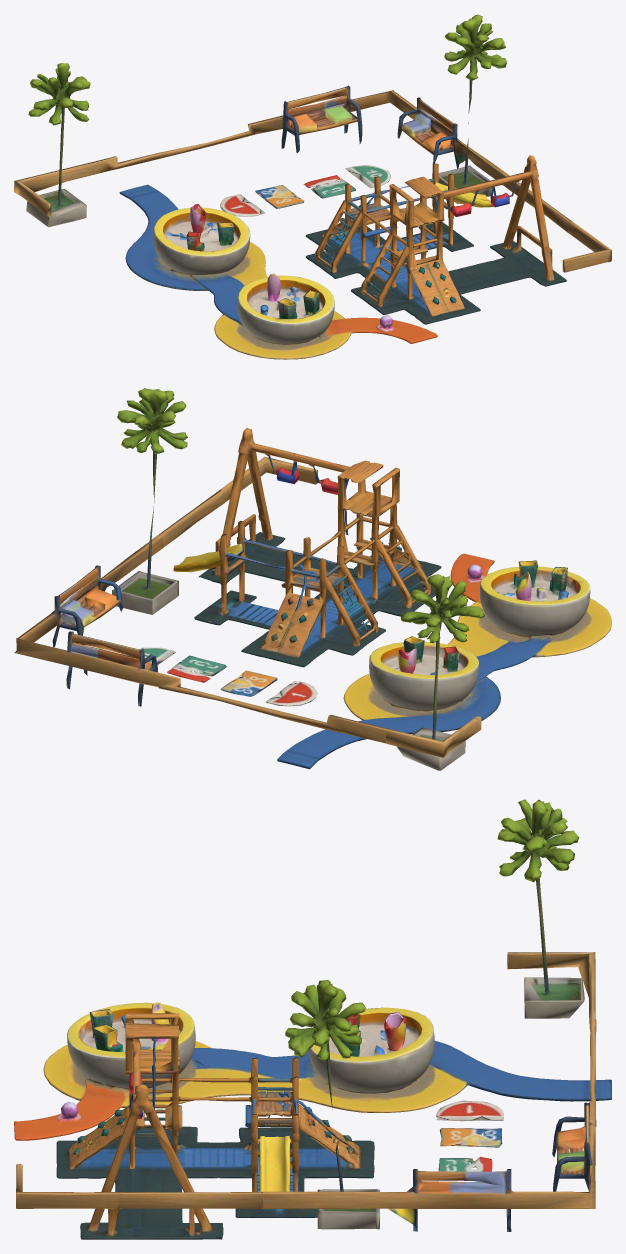
File: scene_playground.glb
3 renders of one model, top to bottom at view 1: azimuth 30°, elevation 25°; view 2: azimuth 150°, elevation 25°; view 3: azimuth 270°, elevation 25°, orthographic. The views are drawn at different scales.
Visible parts, largest first — view 1: tripo_node_0203b197-cd9d-4ef6-82e8-2cd33d41fda9; view 2: tripo_node_0203b197-cd9d-4ef6-82e8-2cd33d41fda9; view 3: tripo_node_0203b197-cd9d-4ef6-82e8-2cd33d41fda9.
Boxes of the visible parts, x1,y1,x2,y2 form: tripo_node_0203b197-cd9d-4ef6-82e8-2cd33d41fda9: [14, 14, 611, 359]; tripo_node_0203b197-cd9d-4ef6-82e8-2cd33d41fda9: [14, 388, 611, 770]; tripo_node_0203b197-cd9d-4ef6-82e8-2cd33d41fda9: [14, 799, 611, 1239].
Size of the model in its own units: 0.9774 by 0.4638 by 0.9776.
Materials: 1 (1 with a texture image).
